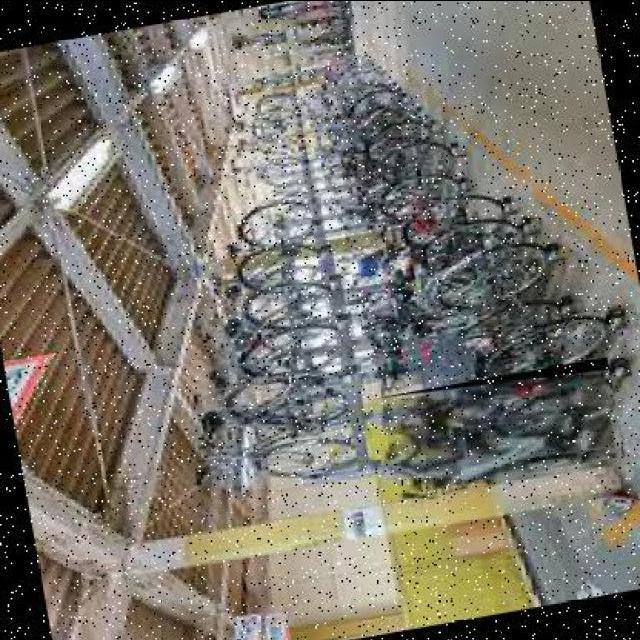bicycle: (373, 358, 627, 500)
